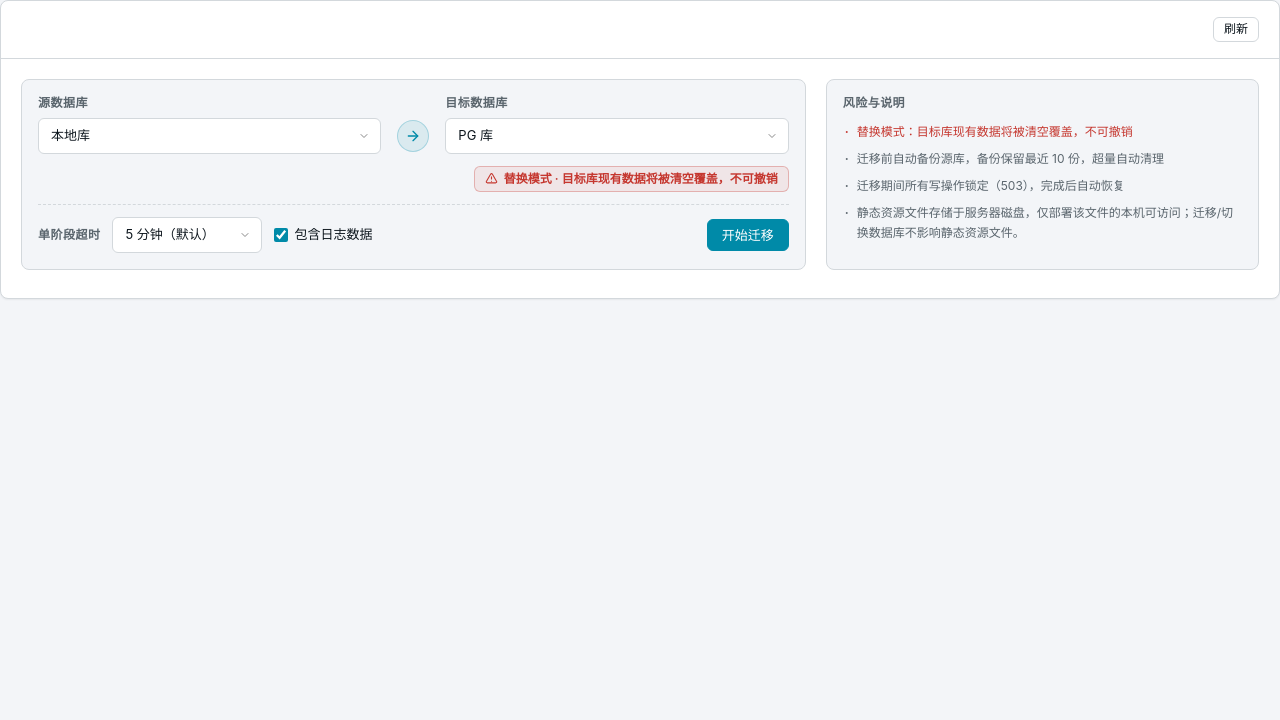
Test: DbMigrationCard › 结果条备份文案：已自动备份源库（保留最近 10 份）（design 文案表）
Click the button with class "migrate-btn" at (748, 235), box [707,219,789,251]
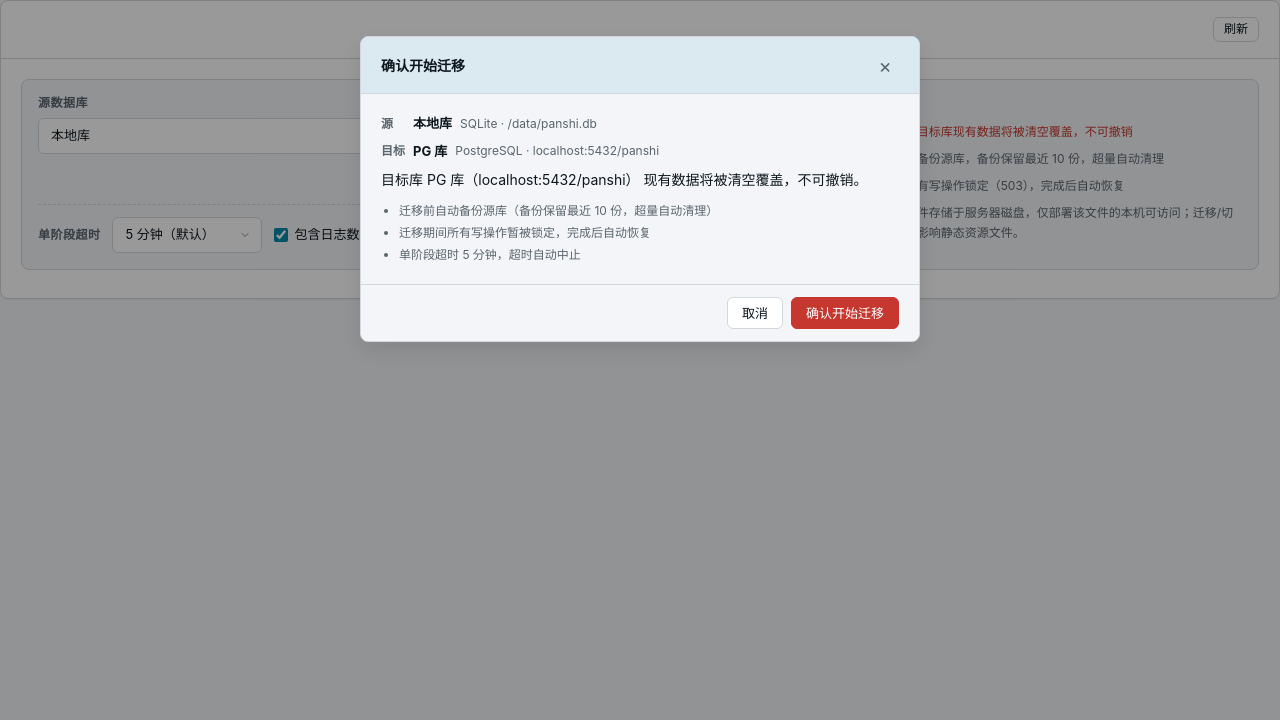
Click the button with class "migrate-confirm-btn" at (845, 313), box [791,297,899,329]
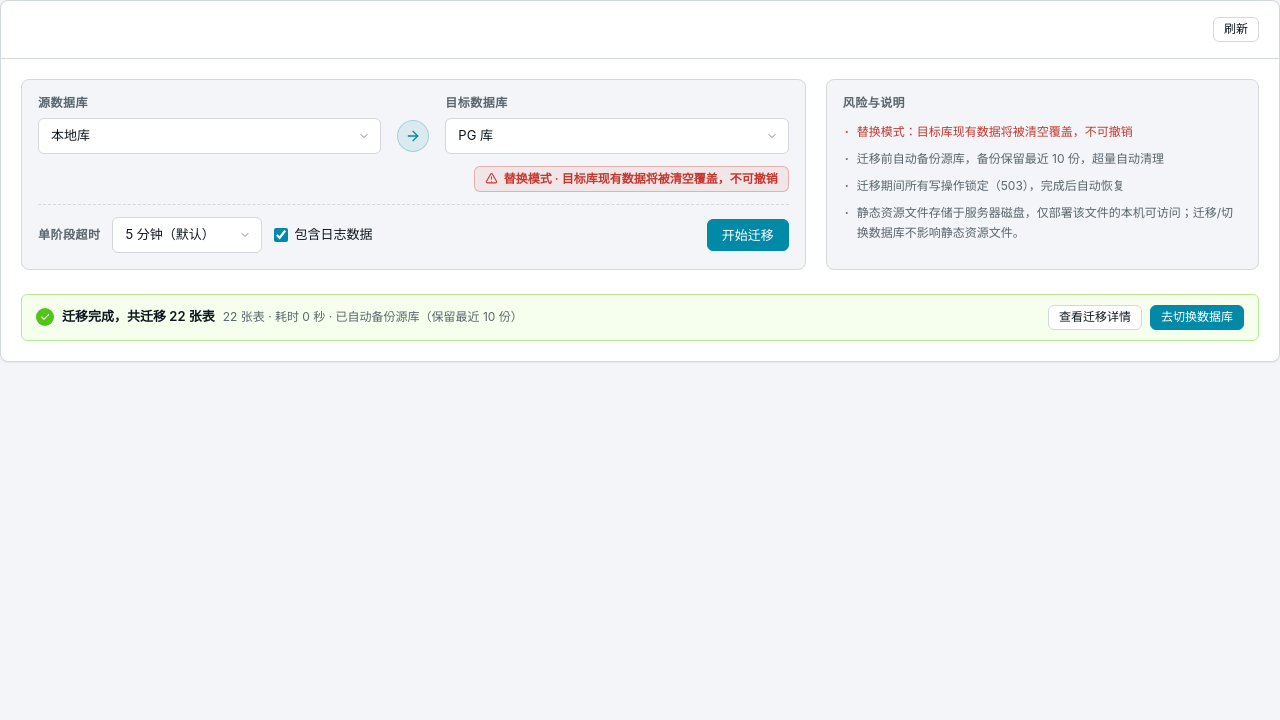
Now the element with class "migrate-result-bar" shows "已自动备份源库（保留最近 10 份）", box [325,309,523,324]
